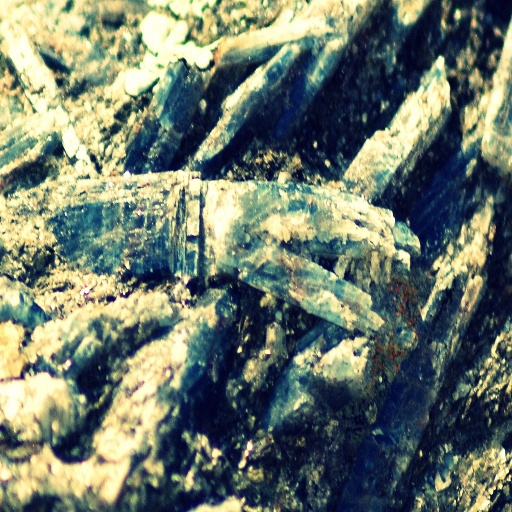hand: (206, 177, 421, 334)
